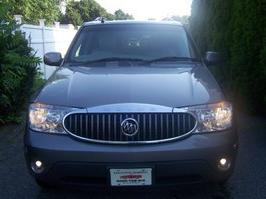Car: (10, 13, 254, 199)
